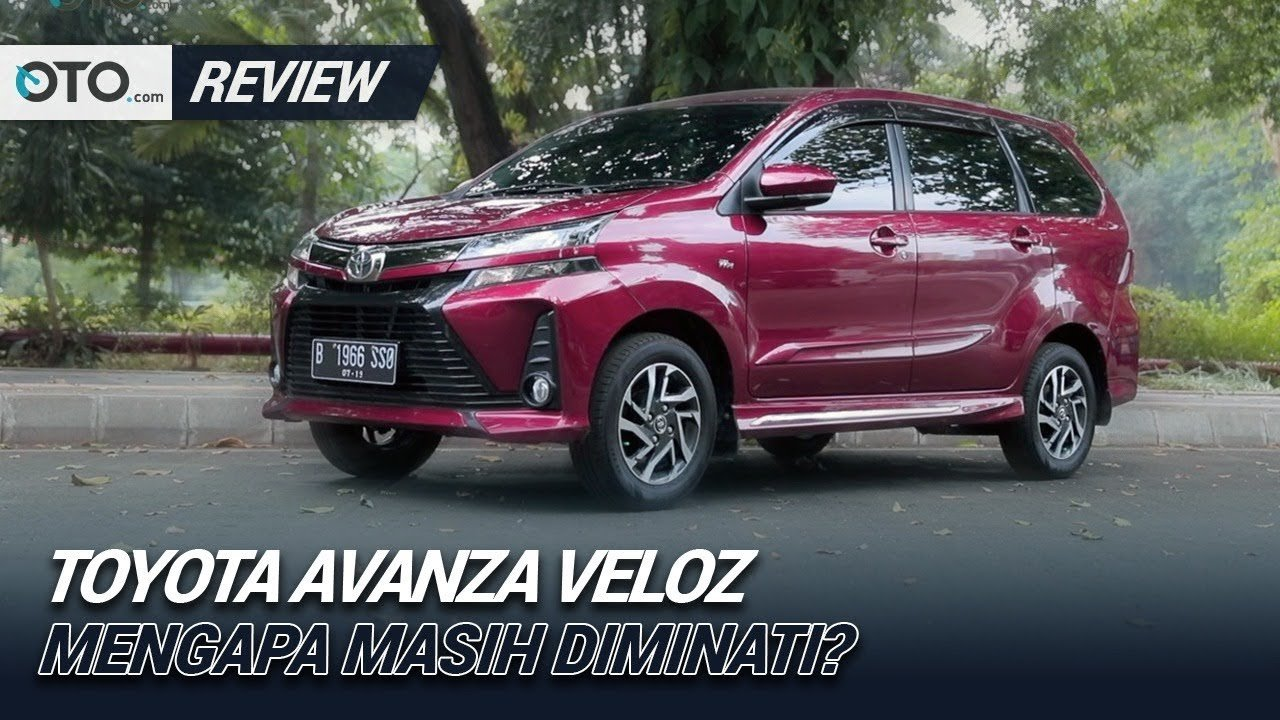mobil: (252, 86, 1161, 518)
